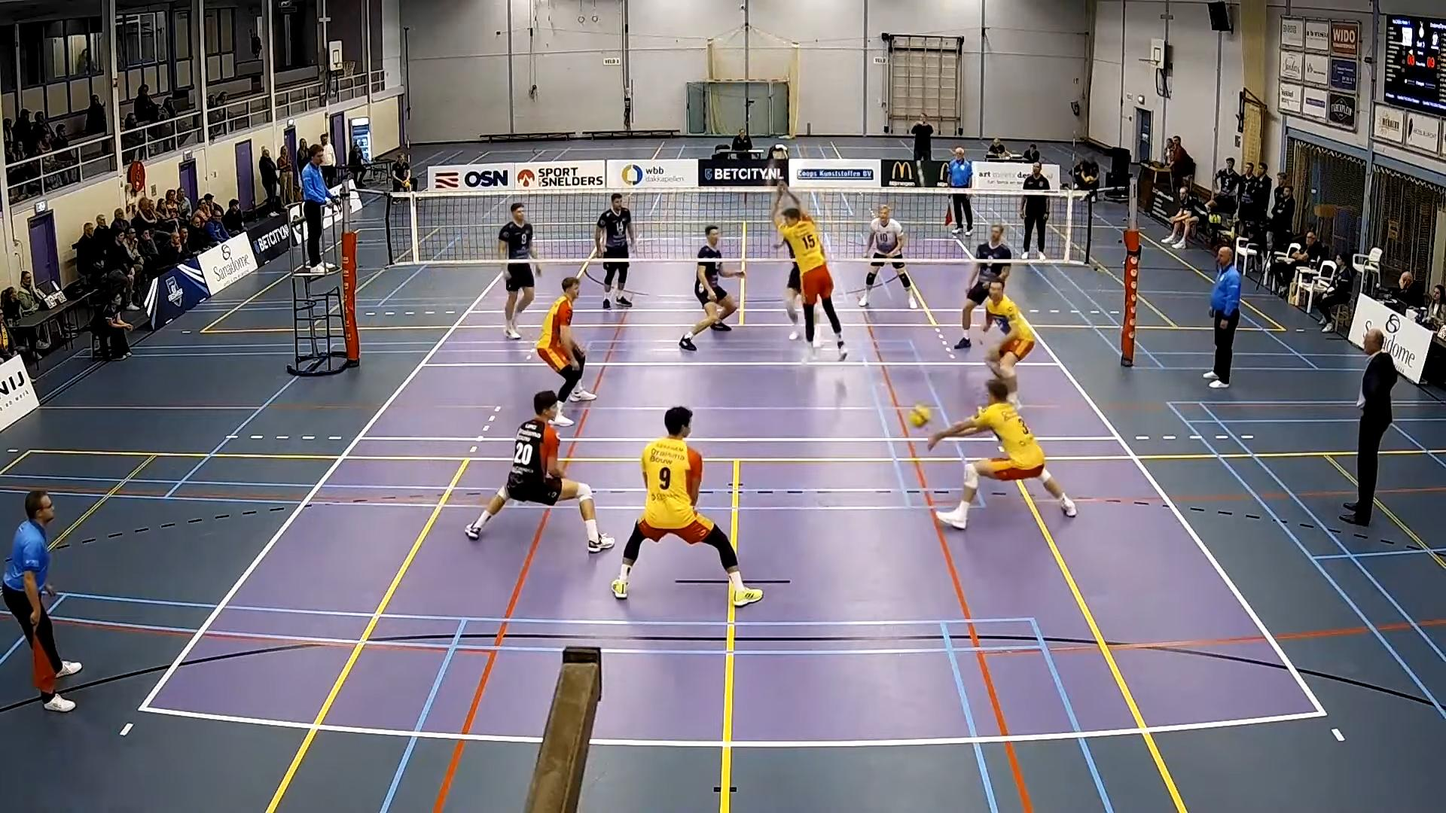Attack: (779, 236, 823, 351)
Block: (757, 182, 854, 377)
Dig: (912, 368, 1079, 529)
Player: (612, 406, 762, 606), (465, 391, 613, 552), (536, 276, 596, 426), (679, 225, 743, 350), (954, 224, 1011, 349), (983, 280, 1034, 406), (859, 205, 915, 308), (499, 202, 539, 339), (595, 193, 635, 308)
ball: (907, 401, 930, 427)
